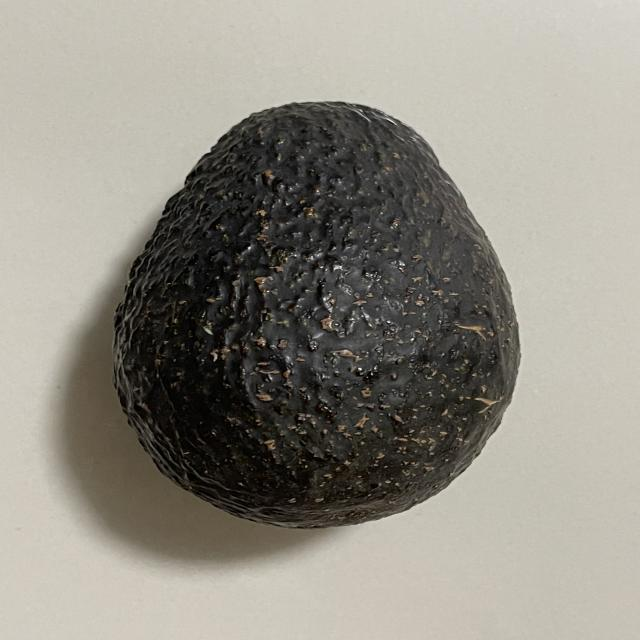Level3: (102, 94, 528, 537)
